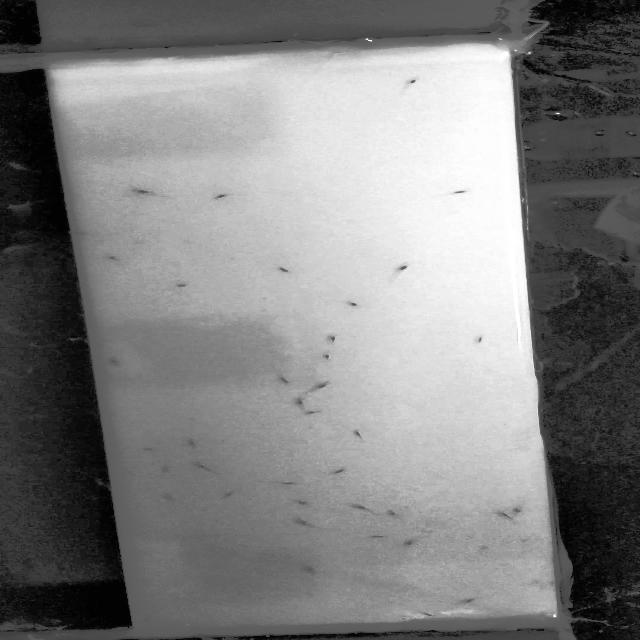shrimp: (121, 185, 177, 202), (391, 73, 437, 93), (436, 182, 474, 204), (383, 260, 421, 280), (328, 294, 370, 312), (264, 263, 312, 277), (99, 354, 141, 370), (311, 332, 354, 347), (312, 352, 358, 366), (464, 332, 494, 352), (99, 251, 137, 266), (127, 442, 167, 456), (208, 192, 241, 208), (297, 562, 330, 578), (314, 382, 345, 398), (162, 279, 202, 291), (214, 487, 244, 501), (290, 494, 320, 508), (133, 612, 165, 625), (174, 436, 203, 449), (324, 464, 353, 477), (490, 509, 515, 524), (293, 409, 332, 418), (352, 500, 375, 514), (350, 427, 370, 443), (293, 517, 315, 531), (272, 374, 302, 384), (401, 538, 425, 550), (154, 463, 176, 476), (276, 480, 304, 490), (194, 462, 218, 473), (450, 595, 475, 605), (385, 512, 409, 522), (418, 609, 440, 619), (291, 396, 311, 406), (369, 532, 393, 540)
